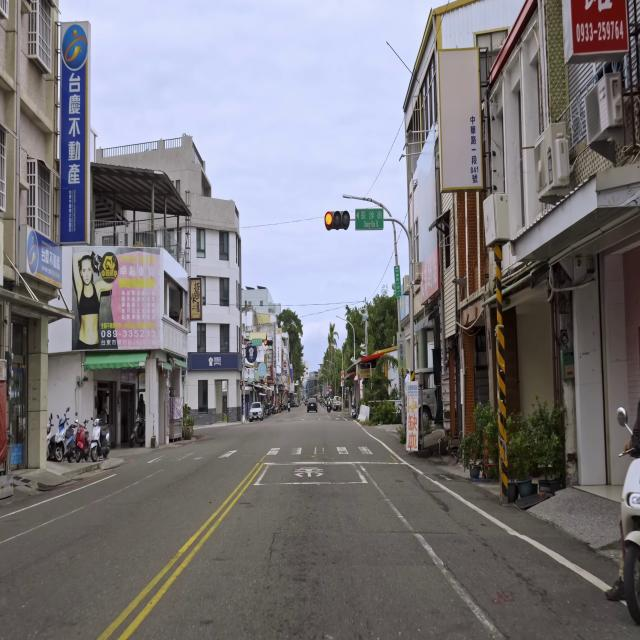red light: (324, 211, 350, 228), (264, 339, 272, 346)
